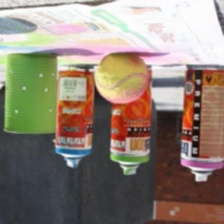aerosol_cans: (177, 62, 224, 183), (107, 64, 155, 178), (51, 61, 99, 172)
can: (0, 51, 63, 137)
